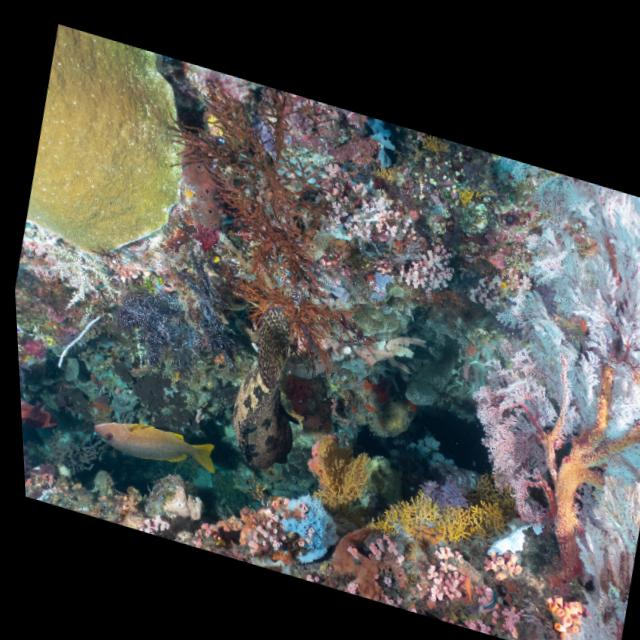Groupers: (215, 295, 321, 481)
